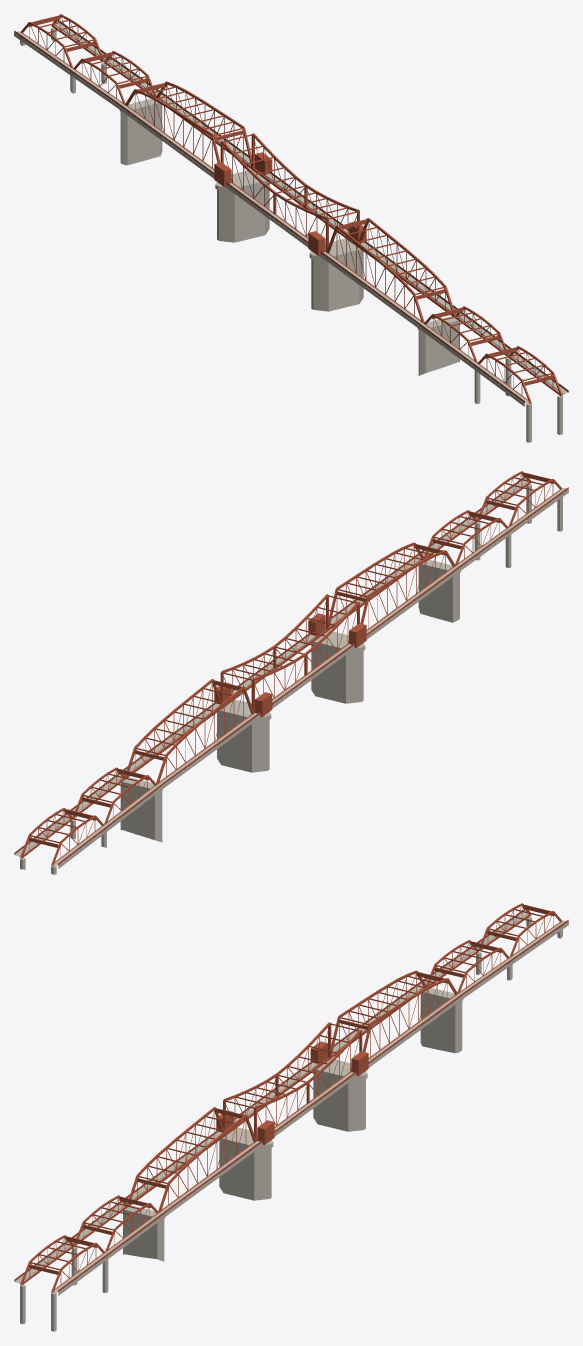
The model's file is pdx-broadway-bridge.glb.
The picture shows the model from 3 angles, top to bottom: view 1: azimuth 30°, elevation 25°; view 2: azimuth 150°, elevation 25°; view 3: azimuth 330°, elevation 25°; orthographic projection.
Visible parts, largest first — view 1: Broadway Bridge; view 2: Broadway Bridge; view 3: Broadway Bridge.
Part boxes in pixels (x1,y1,x2,y2): Broadway Bridge: [14, 14, 568, 442]; Broadway Bridge: [14, 471, 568, 874]; Broadway Bridge: [14, 903, 568, 1331].
Bounding box in the file's own units: 27.6 × 45.79 × 456.
